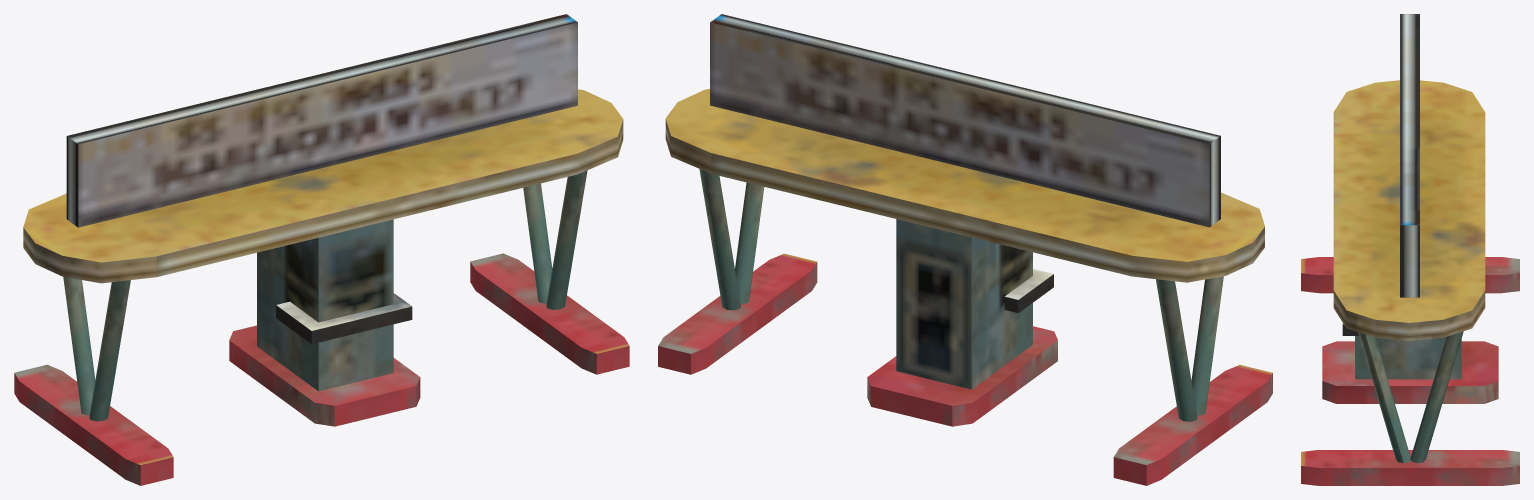
File: USA - Base Building - Drive In Entrance - CBDriveInE.glb
The picture shows the model from 3 angles, left to right: view 1: azimuth 30°, elevation 25°; view 2: azimuth 150°, elevation 25°; view 3: azimuth 270°, elevation 25°; orthographic projection. The views are drawn at different scales.
Visible parts, largest first — view 1: CBDRIVEINE; view 2: CBDRIVEINE; view 3: CBDRIVEINE.
Part boxes in pixels (box(x1,y1,x2,y2)): CBDRIVEINE: box(14, 14, 629, 485); CBDRIVEINE: box(658, 14, 1272, 485); CBDRIVEINE: box(1301, 14, 1519, 485).
Bounding box in the file's own units: 54.77 × 27.35 × 20.8.
1 material, 1 textured.
